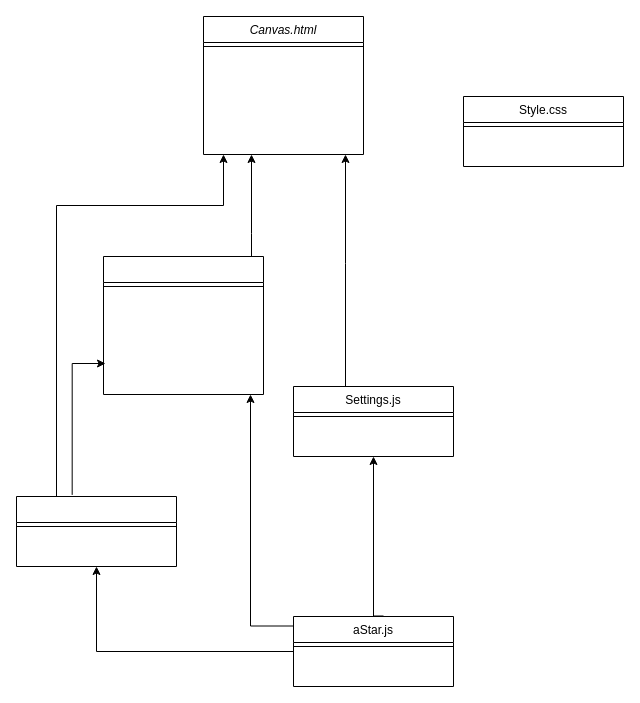
Some shapes in this 640 by 703 pixel diagram are drawn without their labels. The centre of each missing label's shape, as x and y in pixels:
Main.js: the point at 96,531
Modules: the point at 183,325
